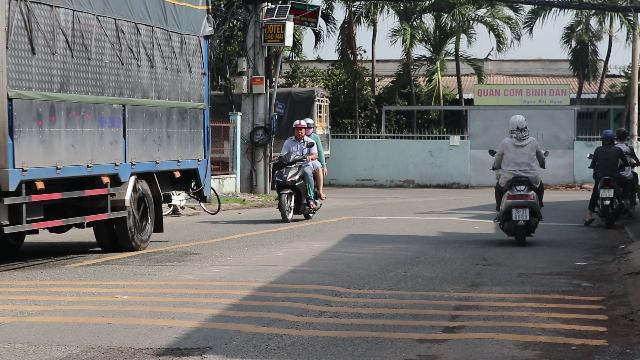helmet: (507, 114, 529, 138), (290, 118, 306, 138), (599, 129, 615, 145), (303, 118, 315, 136)
licenseplate: (513, 209, 529, 219), (600, 189, 614, 197)
motorcyclist: (488, 112, 548, 244), (270, 117, 328, 222), (584, 128, 638, 228)
